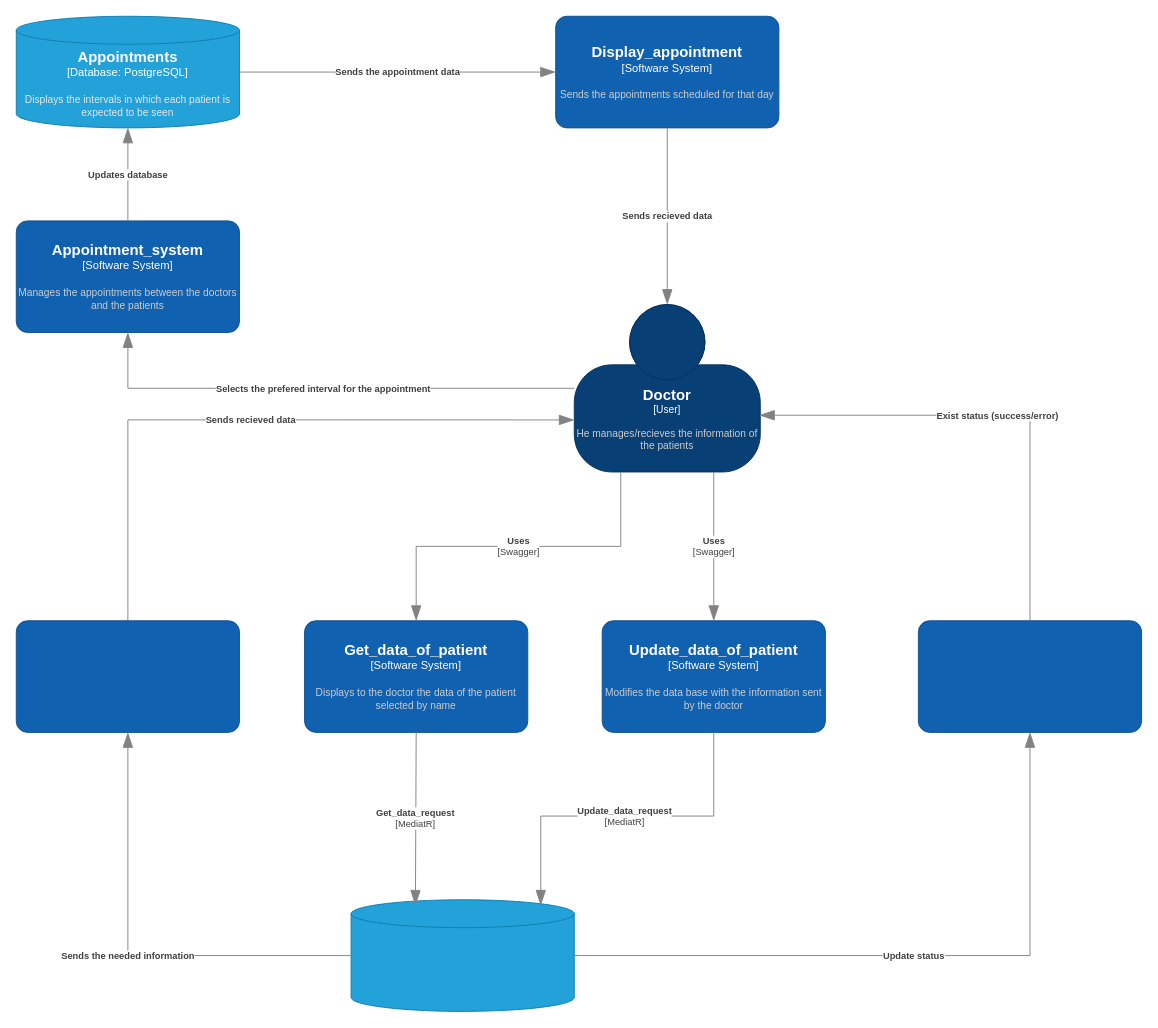
Some shapes in this 1158 by 1028 pixel diagram are drawn without their labels. The centre of each missing label's shape, as x and y in pixels:
Display_data_of patient [Software System] Description of software system.: point (127, 676)
Exit_status [Software System] Displays the status of the update: point (1029, 676)
Patient [Database: PostgreSQL] Stores general information of the patient: point (462, 955)
